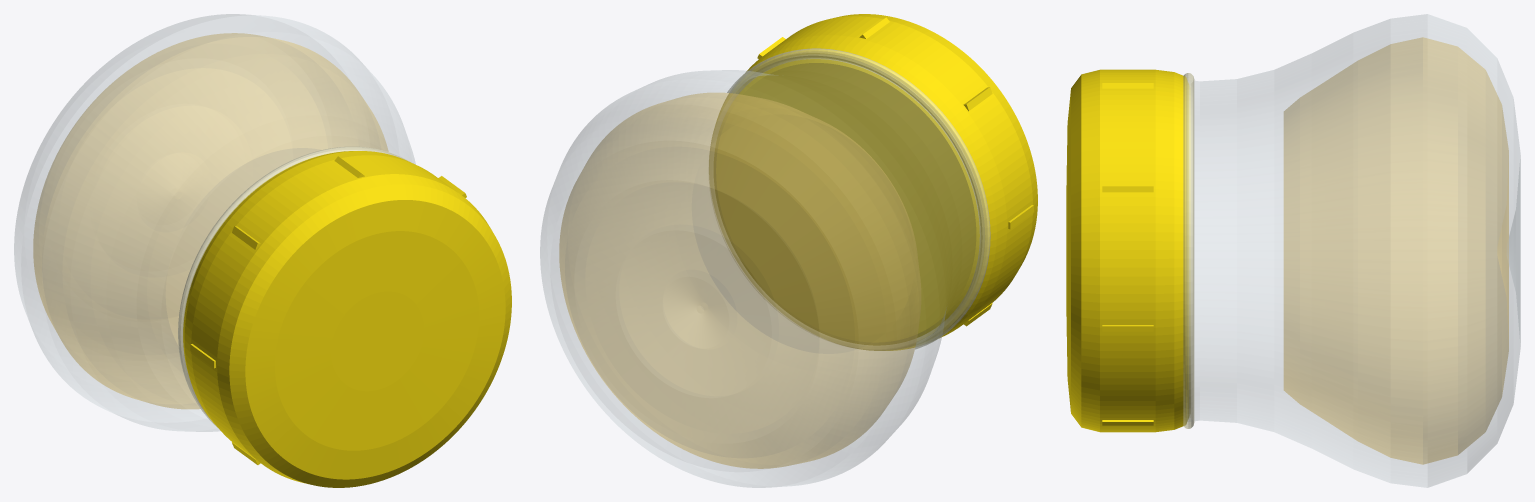
3 views of the same model, side by side, from view 1: azimuth 30°, elevation 25°; view 2: azimuth 150°, elevation 25°; view 3: azimuth 270°, elevation 25° (orthographic). The views are drawn at different scales.
Parts seen in each view (by area): view 1: Yellow molded screw cap, Transparent pear-shaped jar body, Translucent golden contents, Neck sealing ring; view 2: Transparent pear-shaped jar body, Translucent golden contents, Yellow molded screw cap, Neck sealing ring; view 3: Transparent pear-shaped jar body, Translucent golden contents, Yellow molded screw cap, Neck sealing ring.
Part boxes in pixels (x1,y1,x2,y2): Yellow molded screw cap: (183,151,511,487); Transparent pear-shaped jar body: (14,14,415,431); Translucent golden contents: (33,33,388,408); Neck sealing ring: (178,146,411,427); Transparent pear-shaped jar body: (540,57,980,487); Translucent golden contents: (559,93,920,468); Yellow molded screw cap: (709,14,1037,350); Neck sealing ring: (709,48,990,349); Transparent pear-shaped jar body: (1188,14,1520,487); Translucent golden contents: (1284,37,1508,464); Yellow molded screw cap: (1066,69,1189,432); Neck sealing ring: (1183,73,1194,428).
Bounding box in the file's own units: 2.04 × 2.04 × 1.96.
